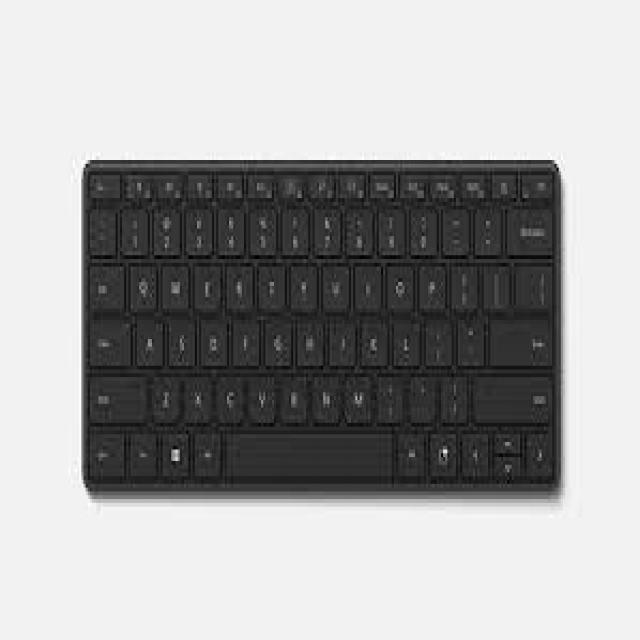others: (79, 156, 563, 499)
